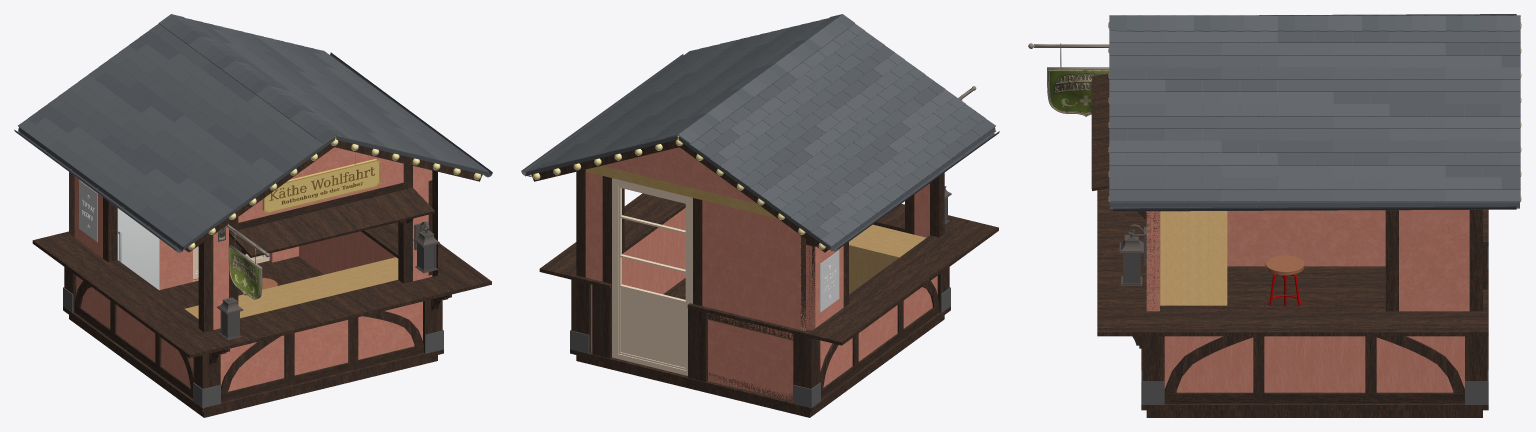
The picture shows the model from 3 angles, left to right: view 1: azimuth 30°, elevation 25°; view 2: azimuth 150°, elevation 25°; view 3: azimuth 270°, elevation 25°; orthographic projection. The views are drawn at different scales.
Visible parts, largest first — view 1: Geom3D (×12), Geom3D_ (×12), Geom3D_Vách treo đèn#3 (×2), Geom3D_Component#171 (×2), Geom3D_Thanh dinh, Geom3D_Bo goc (×2), Geom3D_Component#6, Geom3D_Component#9 (×2), Geom3D_Thanh dinh#1, Geom3D_Component#226, Geom3D_Component#10 (×2), Geom3D_Component#231; view 2: Geom3D (×9), Geom3D_ (×13), Geom3D_Vách treo đèn#1, Geom3D_Component#169, Geom3D_Component#171 (×3), Geom3D_Bo goc (×2), Geom3D_Component#7 (×2), Geom3D_Vách treo đèn#2, Geom3D_Thanh dinh#1, Geom3D_Thanh dinh#3 (×2), Geom3D_Vách treo đèn#3; view 3: Geom3D (×10), Geom3D_ (×10), Geom3D_Thanh dinh#1, Geom3D_Component#11 (×2), Geom3D_Bo goc (×2), Geom3D_Vách treo đèn#3, Geom3D_Component#231, Geom3D_Component#171.
Part boxes in pixels (x1,y1,x2,y2): Geom3D (×12): [14, 14, 492, 408]; Geom3D_ (×12): [32, 138, 491, 417]; Geom3D_Vách treo đèn#3 (×2): [213, 166, 428, 329]; Geom3D_Component#171 (×2): [198, 170, 437, 332]; Geom3D_Thanh dinh: [221, 345, 423, 402]; Geom3D_Bo goc (×2): [193, 299, 442, 388]; Geom3D_Component#6: [238, 182, 403, 229]; Geom3D_Component#9 (×2): [221, 311, 423, 394]; Geom3D_Thanh dinh#1: [74, 305, 192, 398]; Geom3D_Component#226: [398, 163, 412, 283]; Geom3D_Component#10 (×2): [284, 317, 358, 386]; Geom3D_Component#231: [103, 197, 117, 261]; Geom3D (×9): [521, 14, 999, 408]; Geom3D_ (×13): [531, 138, 998, 417]; Geom3D_Vách treo đèn#1: [702, 200, 805, 330]; Geom3D_Component#169: [613, 180, 691, 375]; Geom3D_Component#171 (×3): [576, 169, 944, 331]; Geom3D_Bo goc (×2): [571, 279, 820, 388]; Geom3D_Component#7 (×2): [602, 176, 702, 305]; Geom3D_Vách treo đèn#2: [585, 172, 602, 281]; Geom3D_Thanh dinh#1: [821, 305, 939, 398]; Geom3D_Thanh dinh#3 (×2): [707, 313, 793, 401]; Geom3D_Vách treo đèn#3: [914, 183, 929, 237]; Geom3D (×10): [1048, 14, 1520, 404]; Geom3D_ (×10): [1091, 73, 1488, 417]; Geom3D_Thanh dinh#1: [1164, 392, 1464, 403]; Geom3D_Component#11 (×2): [1164, 336, 1464, 393]; Geom3D_Bo goc (×2): [1142, 336, 1487, 381]; Geom3D_Vách treo đèn#3: [1146, 211, 1160, 311]; Geom3D_Component#231: [1385, 210, 1398, 311]; Geom3D_Component#171: [1469, 210, 1482, 311].
Bounding box in the file's own units: 4.06 × 3.26 × 4.4.
37 materials, 10 textured.
